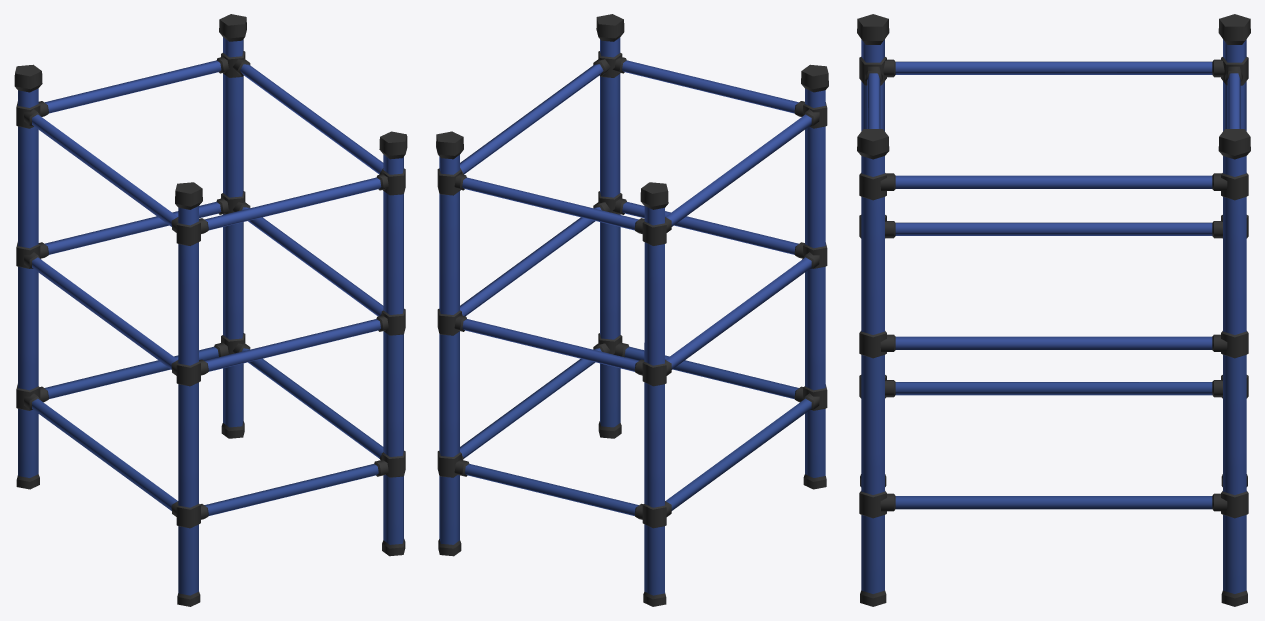
Rendered from Scaffolding_C_1.fbx.
The picture shows the model from 3 angles, left to right: view 1: azimuth 30°, elevation 25°; view 2: azimuth 150°, elevation 25°; view 3: azimuth 270°, elevation 25°; orthographic projection. The views are drawn at different scales.
Visible parts, largest first — view 1: Scaffolding_C_1; view 2: Scaffolding_C_1; view 3: Scaffolding_C_1.
Boxes of the visible parts, left/top/right/bottom form: Scaffolding_C_1: left=14, top=14, right=407, bottom=606; Scaffolding_C_1: left=436, top=14, right=828, bottom=606; Scaffolding_C_1: left=857, top=14, right=1250, bottom=606.
Size of the model in its own units: 167 by 285 by 218.
